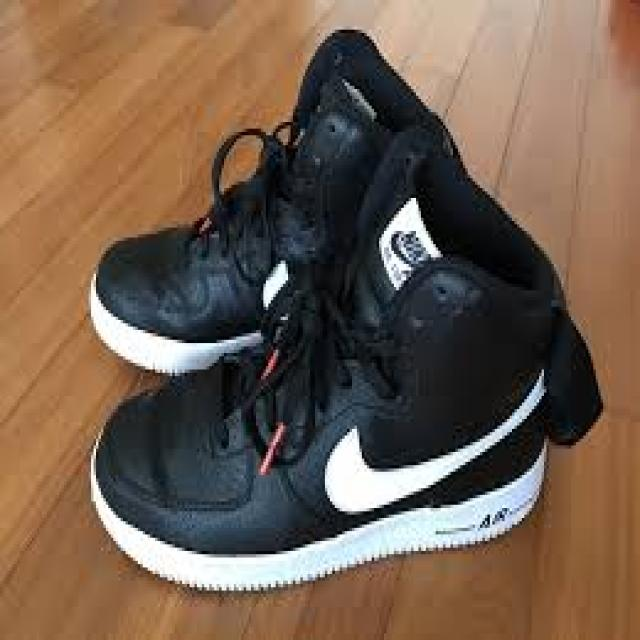shoe: (97, 222, 564, 596), (90, 73, 472, 379)
